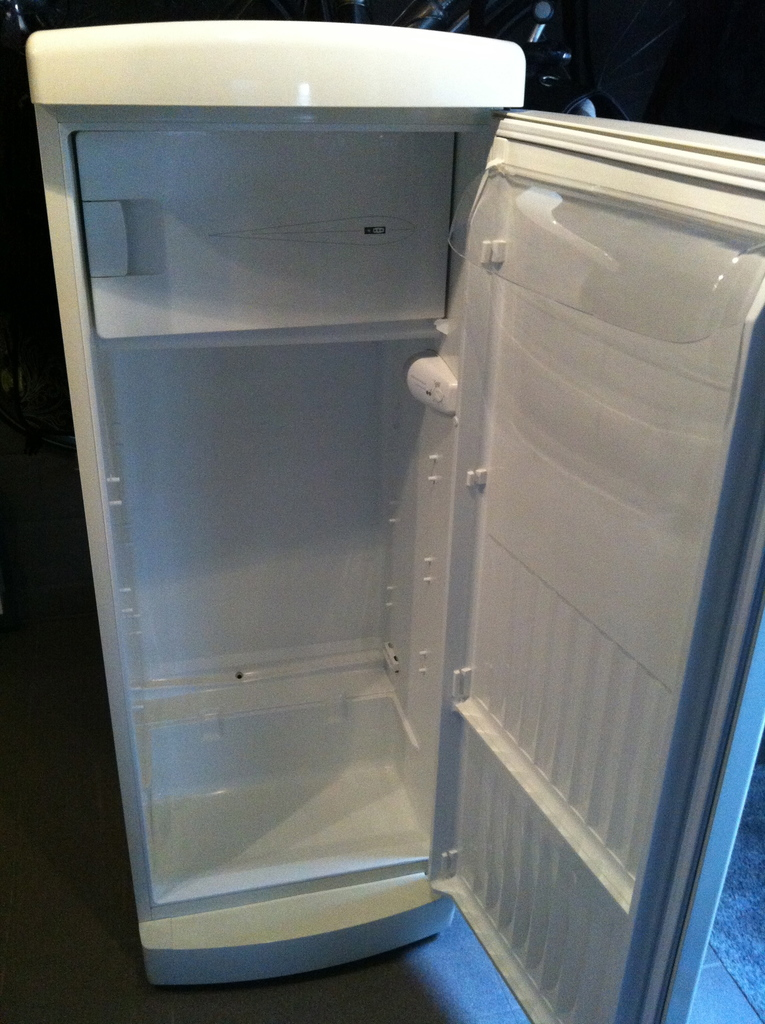refrigerator door: (500, 154, 676, 1021)
